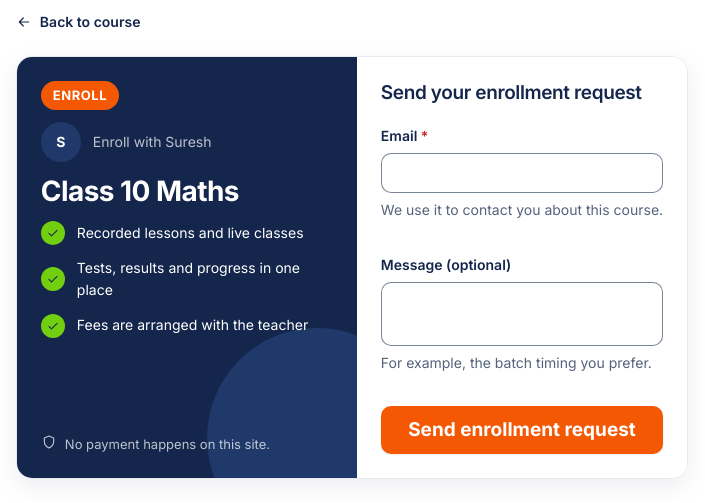
Scenario: enroll: the email is compulsory; an empty one stops the request
Later steps or results of the test are not shown.
Click the button "Send enrollment request". click: x=522, y=430
box: [381,406,663,454]
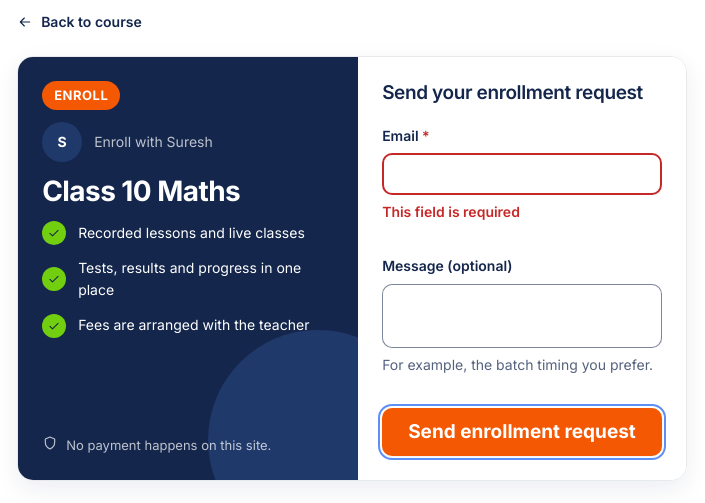
Expected: the text "This field is required" is shown, [382,203,520,220]
